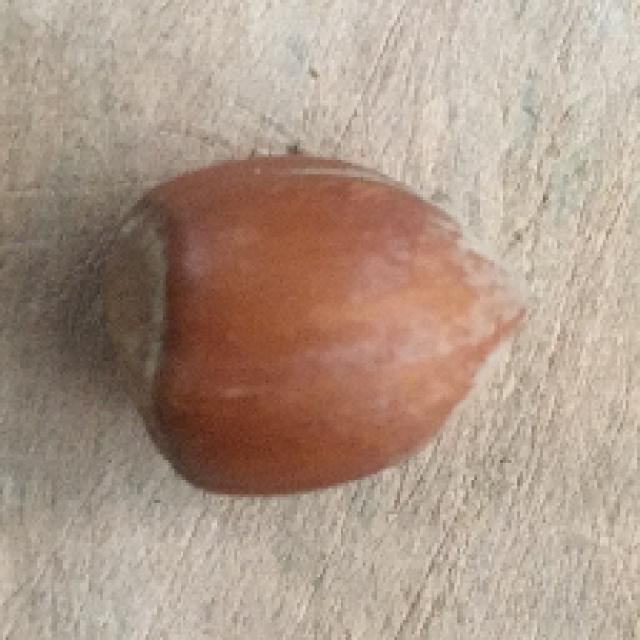qualityHazelnut: (90, 150, 533, 499)
